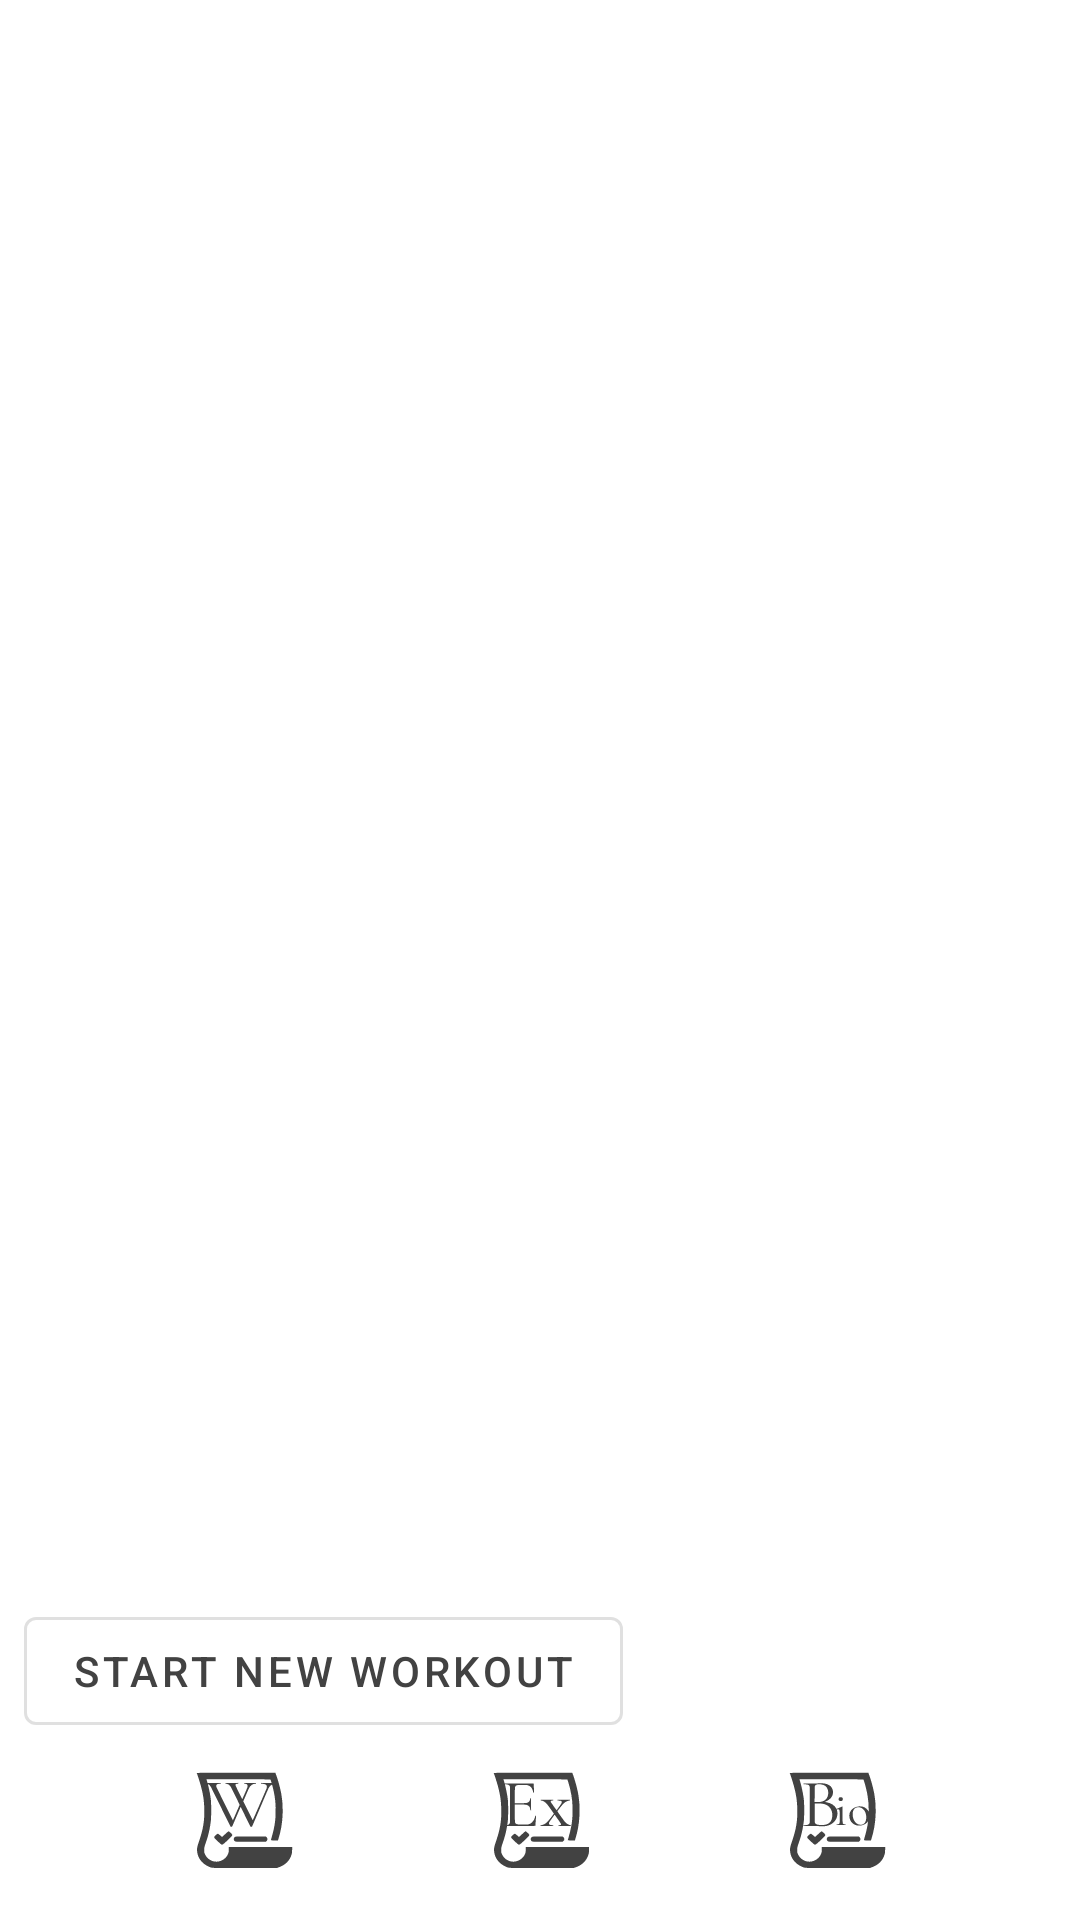

Locate icon controls on the screen. Image size 1080px×1920px, boxes as bbox(x1, y1, x2, y2).
exercises list: bbox(494, 1772, 589, 1868)
workouts list: bbox(197, 1772, 293, 1868)
